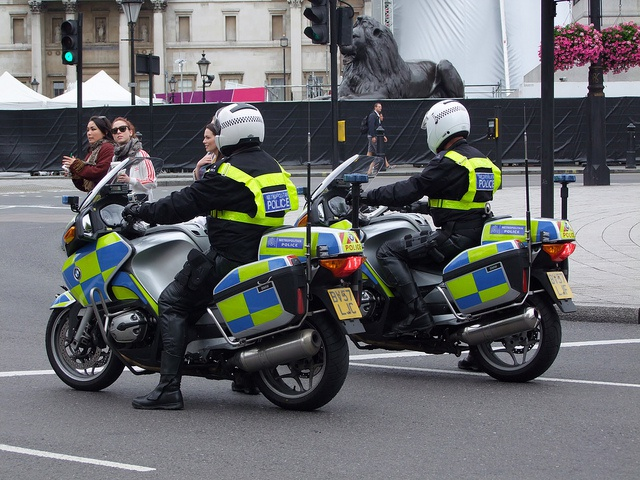non-vehicle: (44, 83, 366, 408), (292, 97, 576, 384)
